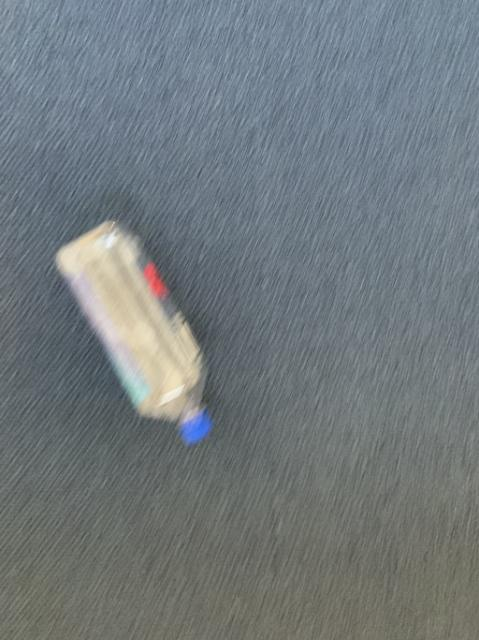plastic: (55, 220, 211, 443)
